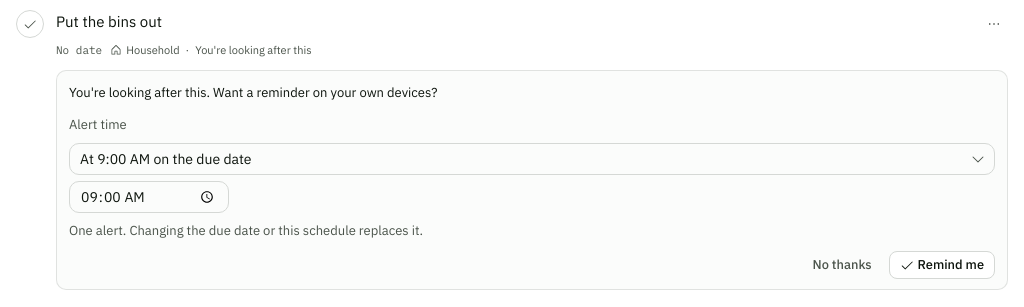
Test case: the holder reminder offer › asks the named member once, in their own surface, and never enrolls them
Expected: the text "Want a reminder on your own devices?" is shown, [69,84,437,101]
Click the button "No thanks" at [842, 265], box [802,251,883,279]
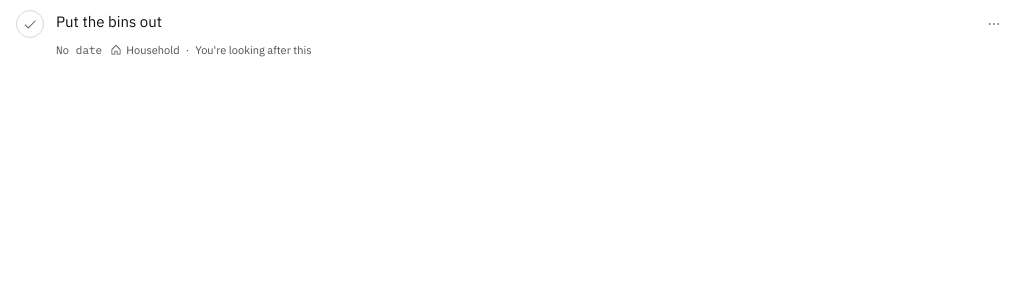
Expected: the text "Want a reminder on your own devices?" is gone
